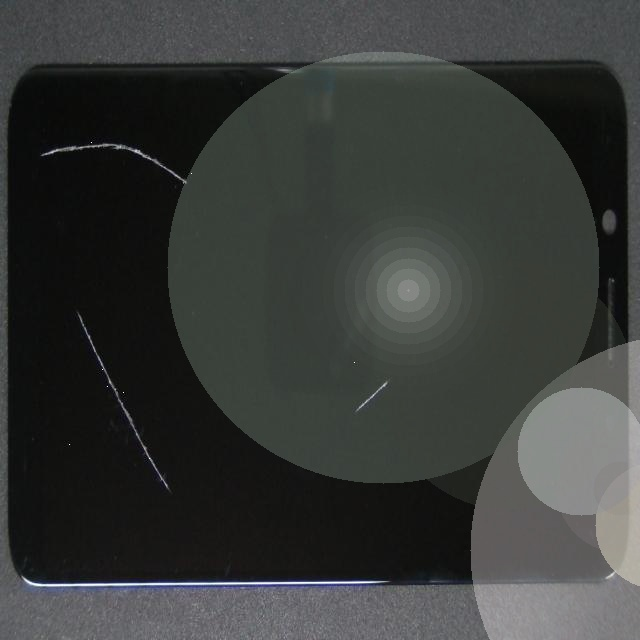scratch: (180, 178, 525, 612), (0, 62, 127, 261), (28, 154, 85, 465)
